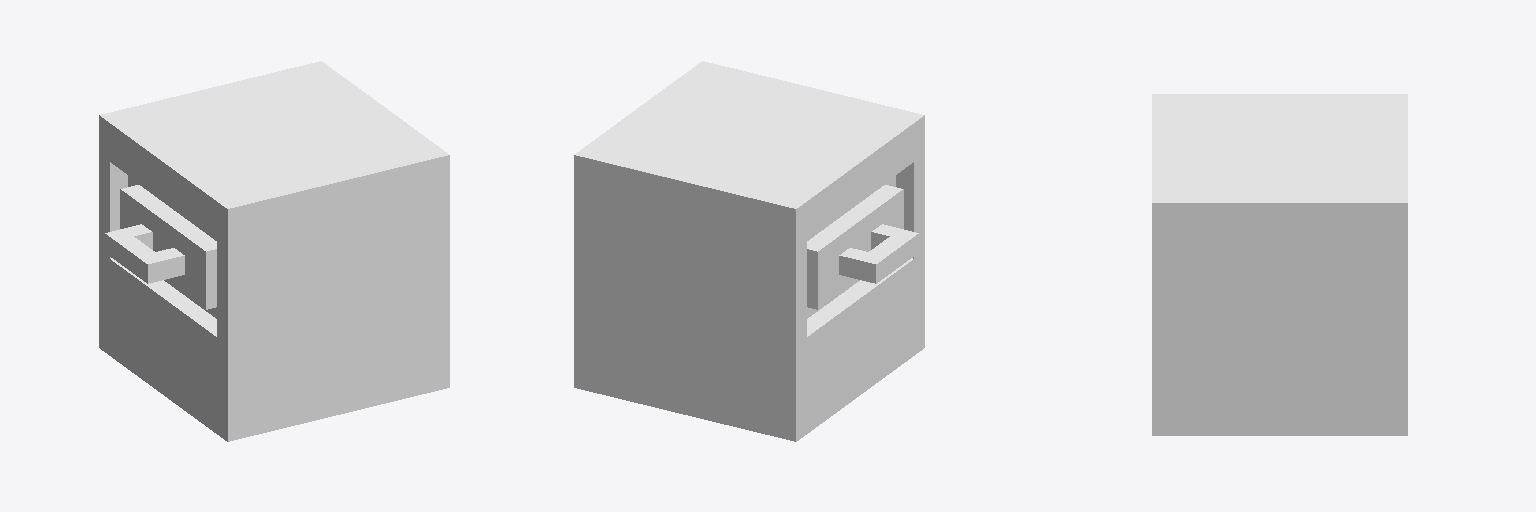
File: modern-drawer.obj
The picture shows the model from 3 angles: view 1: azimuth 30°, elevation 25°; view 2: azimuth 150°, elevation 25°; view 3: azimuth 270°, elevation 25°; orthographic projection.
Visible parts, largest first — view 1: modern:drawer; view 2: modern:drawer; view 3: modern:drawer.
Part boxes in pixels (x1,y1,x2,y2): modern:drawer: (99,61,449,441); modern:drawer: (574,61,924,441); modern:drawer: (1152,94,1407,435).
Bounding box in the file's own units: 14 × 12 × 12.